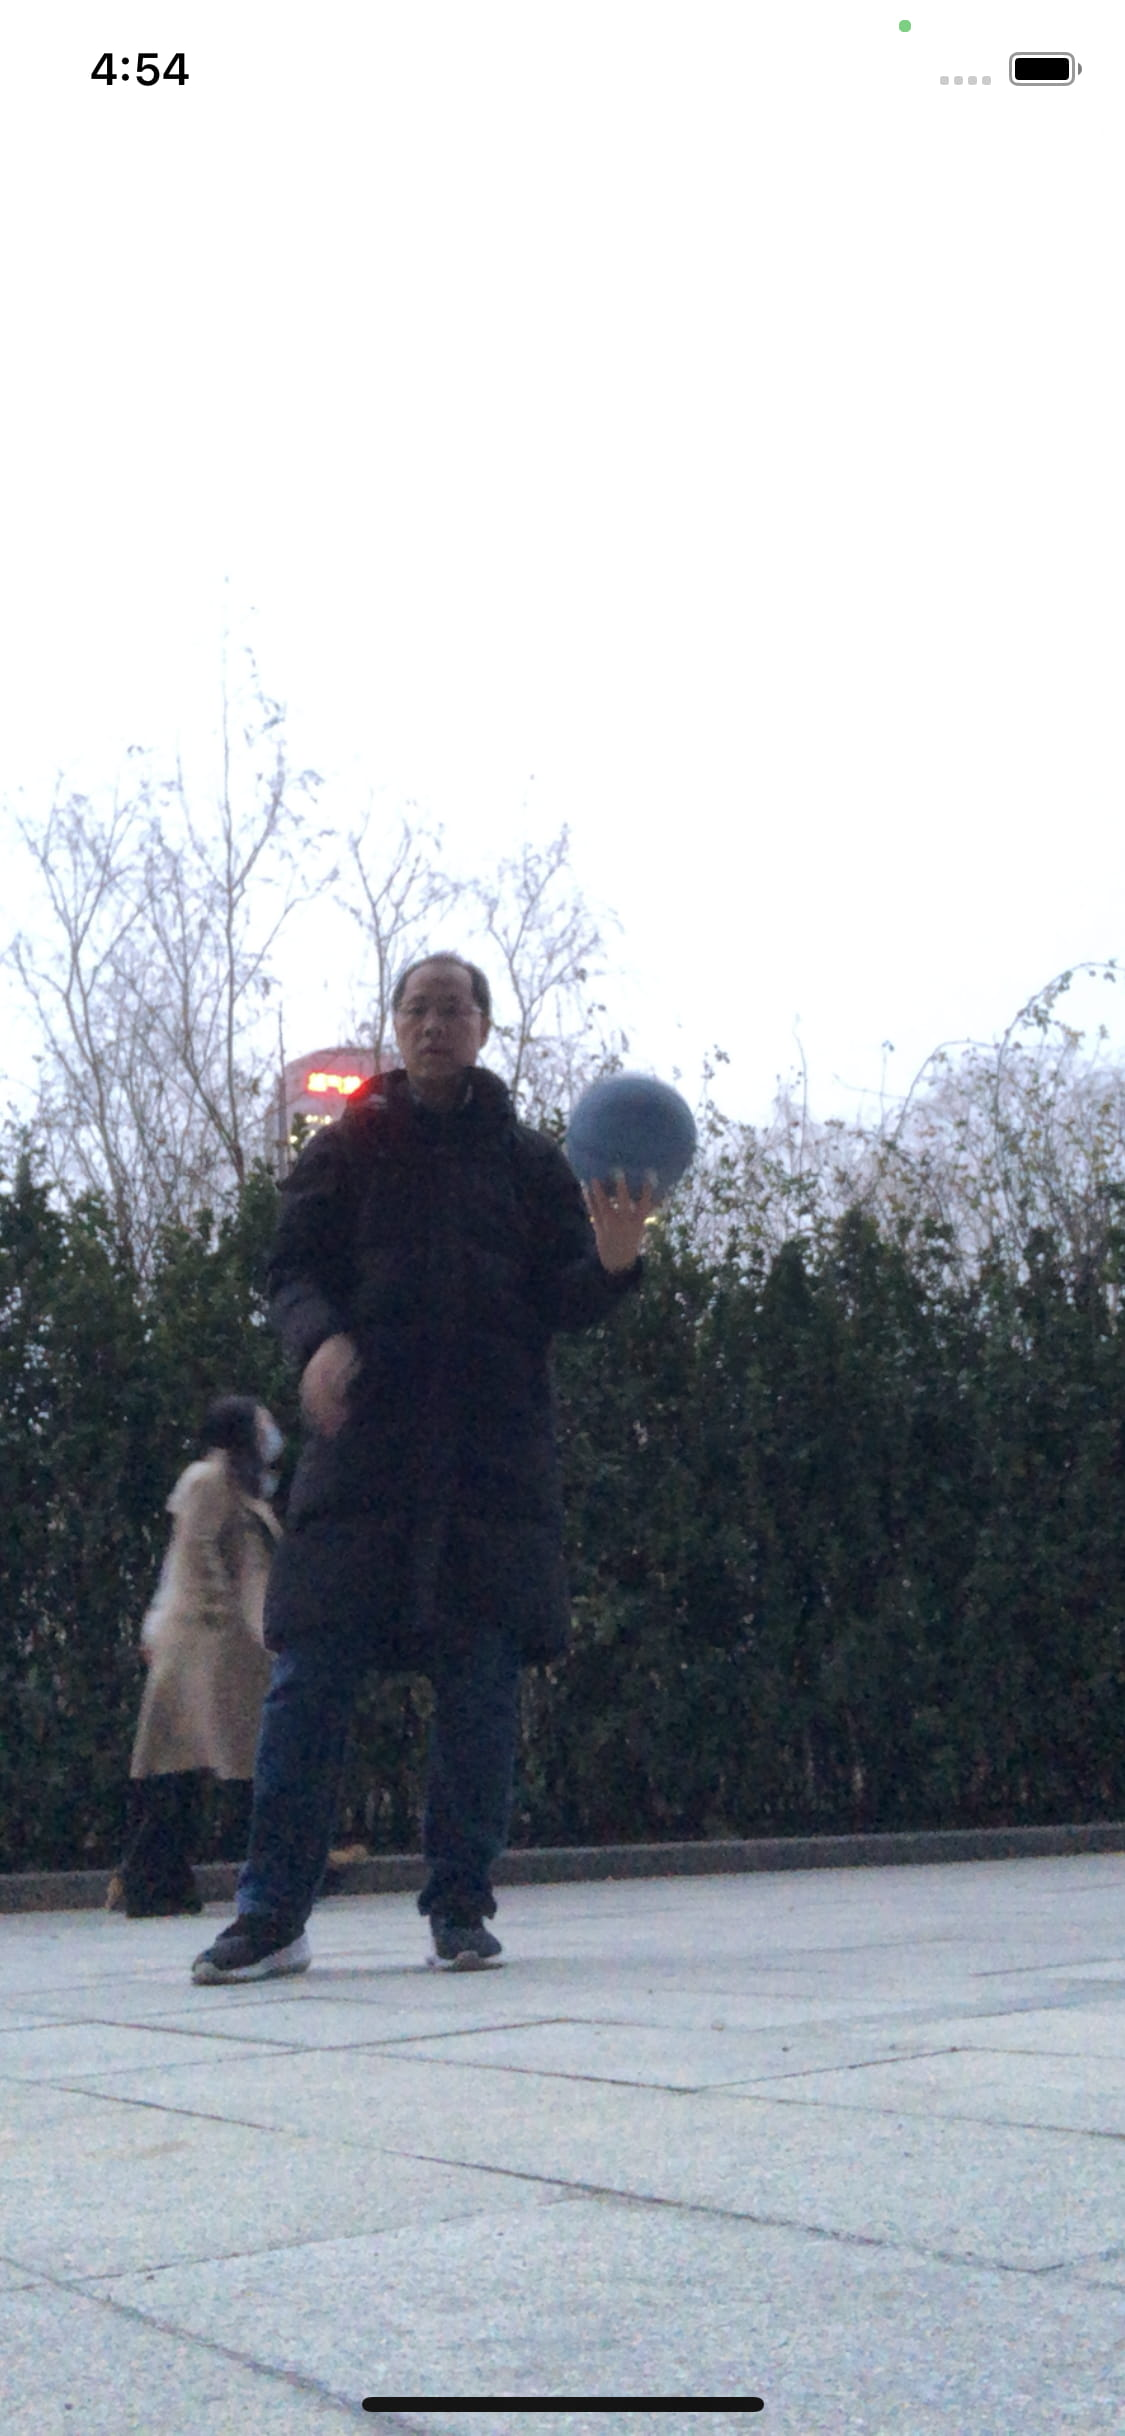ball: (562, 1075, 699, 1209)
